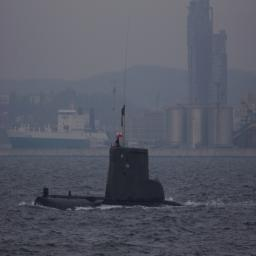submarine: (33, 150, 203, 213)
